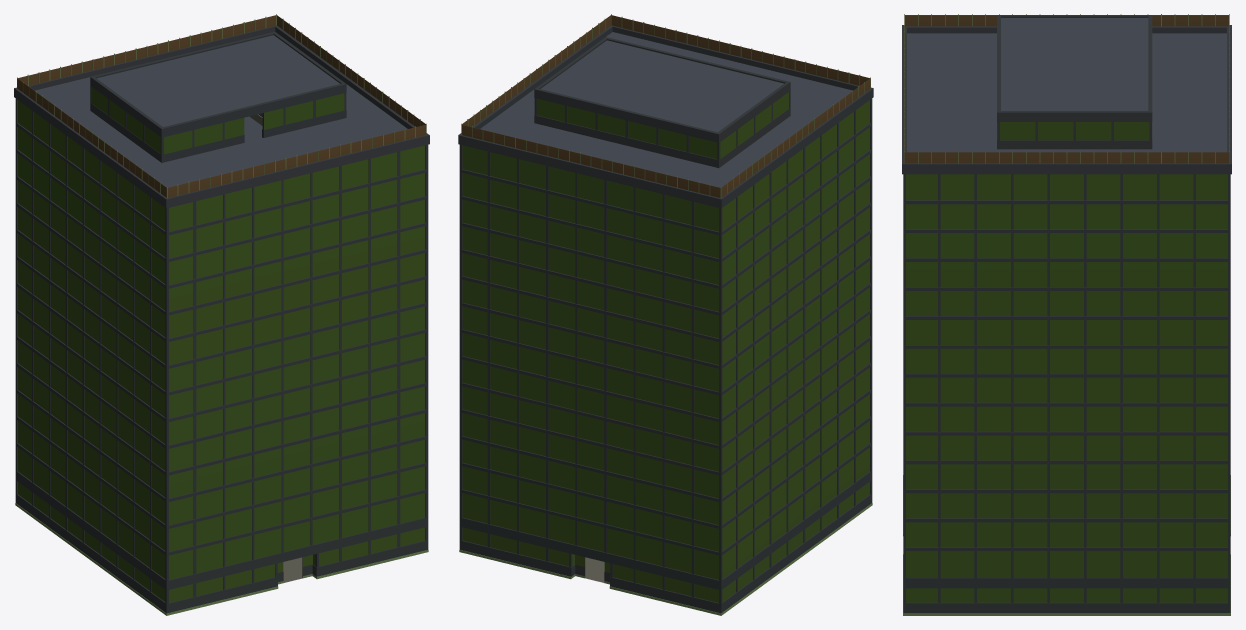
File: House_50.fbx
3 views of the same model, side by side, from view 1: azimuth 30°, elevation 25°; view 2: azimuth 150°, elevation 25°; view 3: azimuth 270°, elevation 25° (orthographic). The views are drawn at different scales.
Parts seen in each view (by area): view 1: House_50; view 2: House_50; view 3: House_50.
Boxes of the visible parts, x1,y1,x2,y2 form: House_50: [14, 14, 429, 615]; House_50: [458, 14, 873, 615]; House_50: [902, 14, 1231, 615].
Size of the model in its own units: 24 by 38.78 by 24.
